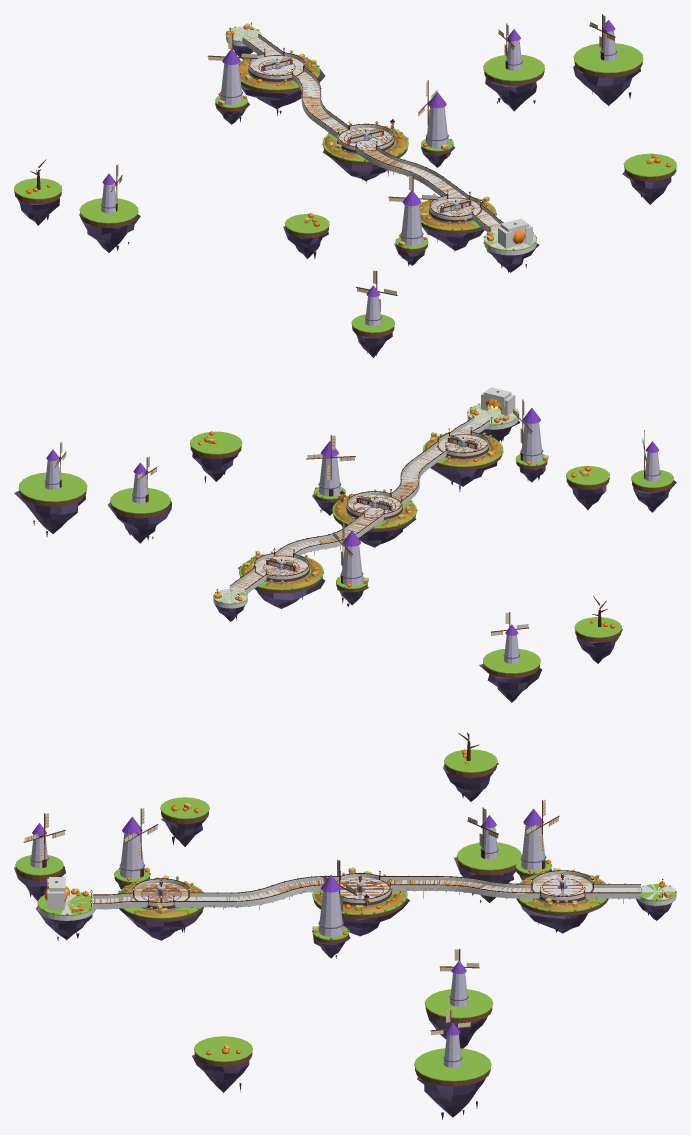
3 views of the same model, one above another, from view 1: azimuth 30°, elevation 25°; view 2: azimuth 150°, elevation 25°; view 3: azimuth 270°, elevation 25° (orthographic). The views are drawn at different scales.
Visible parts, largest first — view 1: V_grass, V_rock, C_0, V_stone_light, V_dirt, V_hay_dark, V_plank, V_beam_dark, V_cloth_purple, V_hay, V_pumpkin, C_1 (+2 smaller); view 2: V_grass, V_rock, C_0, V_stone_light, V_dirt, V_hay_dark, V_beam_dark, V_plank, V_cloth_purple, V_hay, V_plank_dark, V_pumpkin (+2 smaller); view 3: V_grass, C_0, V_rock, V_stone_light, V_dirt, V_beam_dark, V_hay_dark, V_plank, V_cloth_purple, V_plank_dark, V_hay, V_pumpkin (+2 smaller).
Part boxes in pixels (left/top/right/bottom): V_grass: left=14, top=26, right=676, bottom=332; V_rock: left=14, top=42, right=671, bottom=358; C_0: left=226, top=26, right=536, bottom=255; V_stone_light: left=101, top=30, right=616, bottom=326; V_dirt: left=14, top=61, right=676, bottom=337; V_hay_dark: left=218, top=23, right=654, bottom=246; V_plank: left=243, top=37, right=500, bottom=231; V_beam_dark: left=30, top=22, right=604, bottom=230; V_cloth_purple: left=102, top=20, right=615, bottom=297; V_hay: left=218, top=23, right=654, bottom=246; V_pumpkin: left=26, top=26, right=670, bottom=243; C_1: left=498, top=218, right=532, bottom=248; V_grass: left=18, top=404, right=673, bottom=673; V_rock: left=14, top=420, right=676, bottom=702; C_0: left=213, top=404, right=518, bottom=608; V_stone_light: left=45, top=422, right=660, bottom=663; V_dirt: left=19, top=446, right=673, bottom=678; V_hay_dark: left=209, top=407, right=587, bottom=598; V_beam_dark: left=59, top=412, right=645, bottom=626; V_plank: left=229, top=420, right=487, bottom=593; V_cloth_purple: left=46, top=408, right=658, bottom=635; V_hay: left=208, top=407, right=588, bottom=598; V_plank_dark: left=238, top=422, right=480, bottom=586; V_pumpkin: left=198, top=398, right=615, bottom=628; V_grass: left=15, top=749, right=676, bottom=1081; C_0: left=38, top=871, right=676, bottom=920; V_rock: left=14, top=763, right=672, bottom=1117; V_stone_light: left=30, top=825, right=546, bottom=1067; V_dirt: left=16, top=764, right=608, bottom=1086; V_beam_dark: left=42, top=732, right=662, bottom=909; V_hay_dark: left=73, top=803, right=670, bottom=1047; V_plank: left=94, top=875, right=641, bottom=907; V_cloth_purple: left=32, top=808, right=543, bottom=1035; V_plank_dark: left=100, top=879, right=581, bottom=905; V_hay: left=71, top=803, right=670, bottom=1051; V_pumpkin: left=44, top=750, right=671, bottom=1055.
Size of the model in its own units: 162 by 41.9 by 137.
